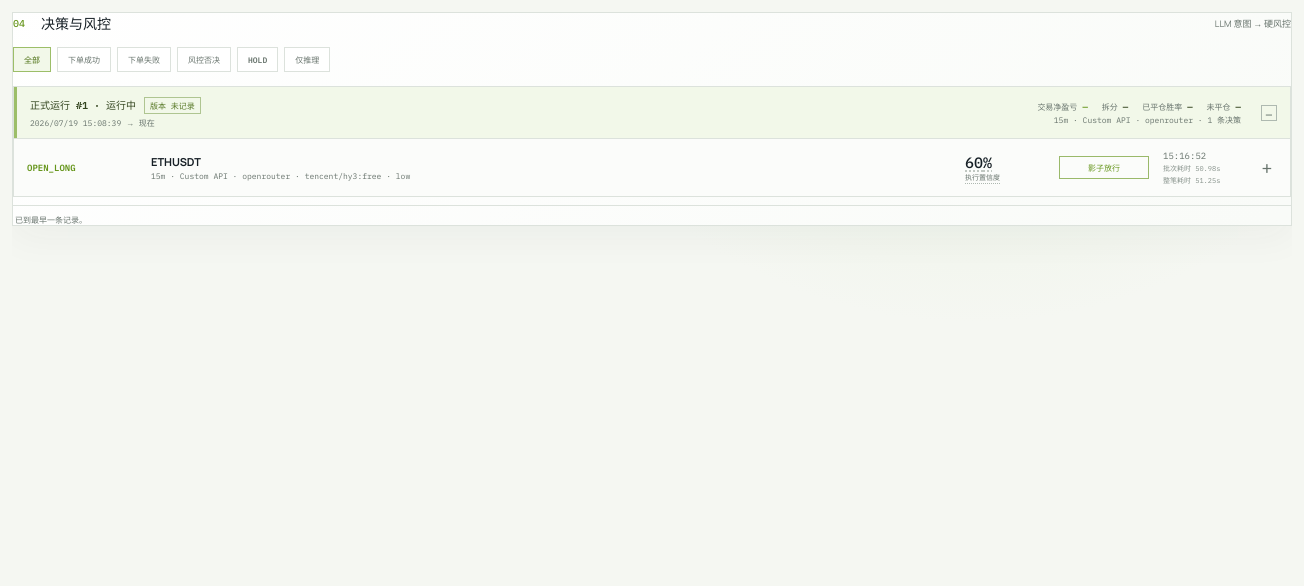
Test case: DecisionPanel › labels an accepted assisted decision as shadow-only and not submitted
This screenshot has width=1304, height=586.
Expected: the text "影子放行" is shown, top-left (1059, 156), bottom-right (1149, 179)
Click the button "OPEN_LONG": [51, 168] box top-left (14, 139), bottom-right (1290, 196)
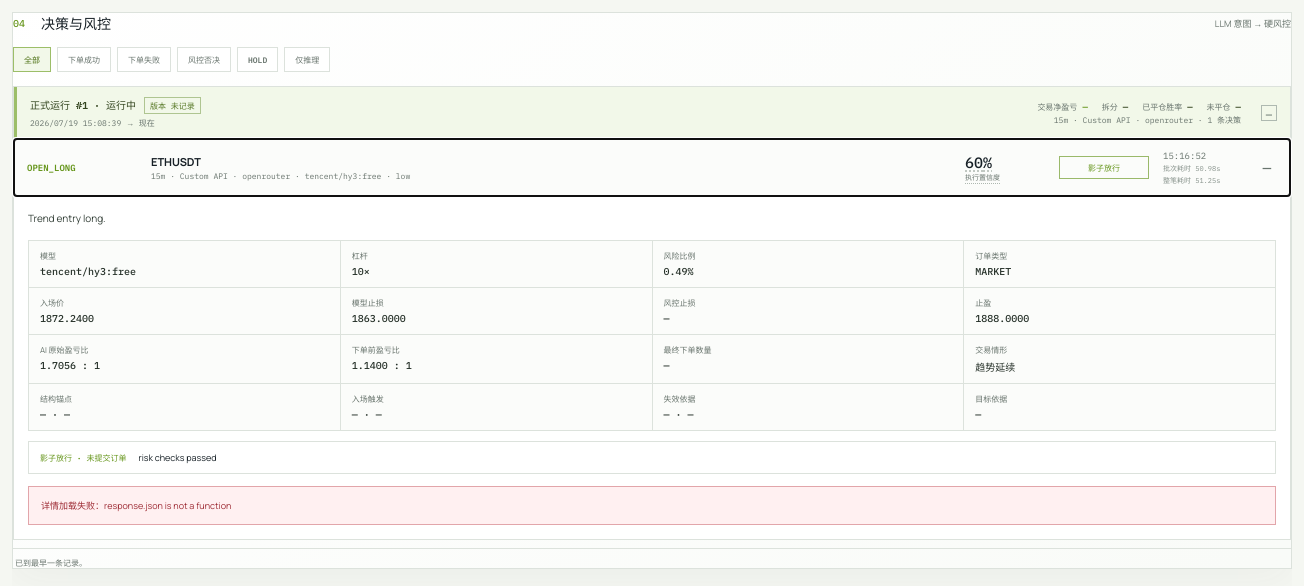
Now the text "影子放行 · 未提交订单" is shown, box top-left (40, 452), bottom-right (126, 463)
